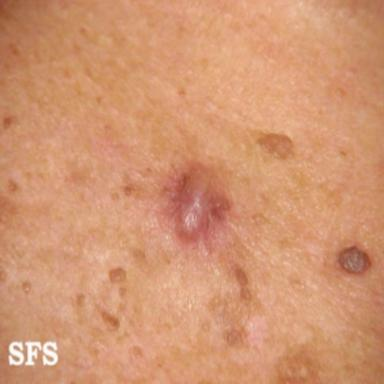basal-cell-carcinoma: (162, 162, 237, 247)
